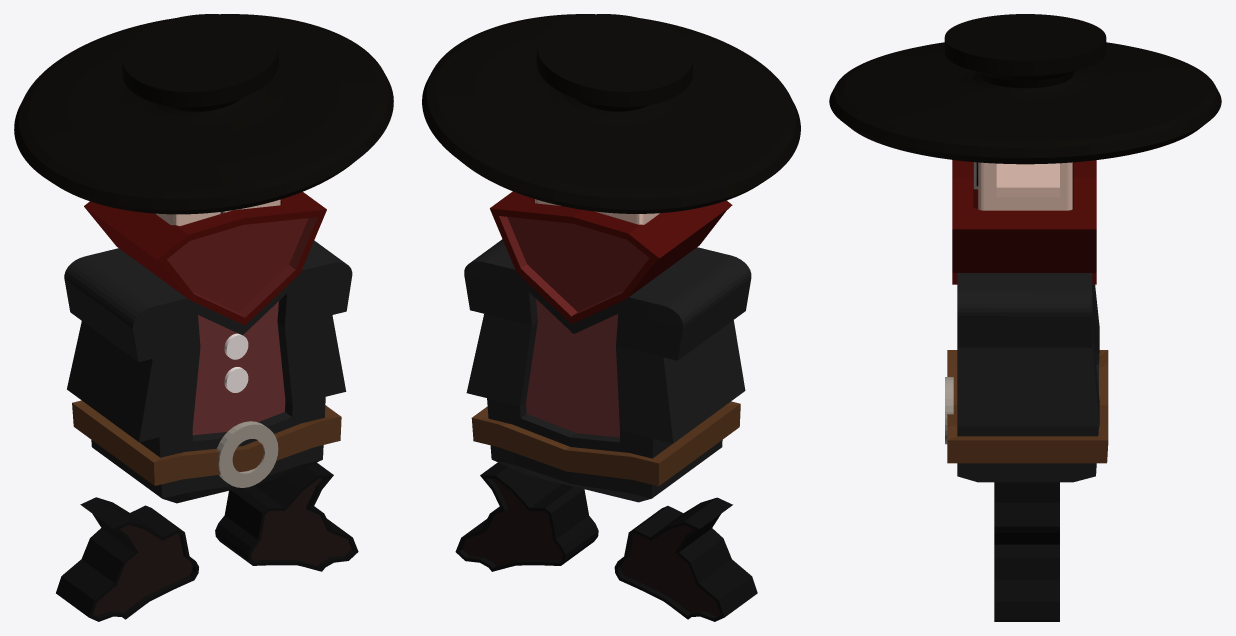
3 views of the same model, side by side, from view 1: azimuth 30°, elevation 25°; view 2: azimuth 150°, elevation 25°; view 3: azimuth 270°, elevation 25° (orthographic).
Visible parts, largest first — view 1: Hat, Jacket, Boots Outline, Scarf Inner, Boots, Scarf, Shirt, Belt, Belt Ring, Jacket Buttons, Head; view 2: Hat, Jacket, Boots Outline, Shirt, Scarf Inner, Boots, Scarf, Belt; view 3: Hat, Jacket, Scarf, Boots Outline, Belt, Head, Ears.
Part boxes in pixels (x1=…): Hat: x1=14, y1=14, x2=393, y2=214; Jacket: x1=64, y1=240, x2=352, y2=503; Boots Outline: x1=56, y1=462, x2=358, y2=621; Scarf Inner: x1=167, y1=217, x2=317, y2=317; Boots: x1=93, y1=478, x2=351, y2=615; Scarf: x1=84, y1=192, x2=326, y2=325; Shirt: x1=192, y1=301, x2=285, y2=435; Belt: x1=72, y1=400, x2=341, y2=485; Belt Ring: x1=216, y1=421, x2=278, y2=487; Jacket Buttons: x1=224, y1=333, x2=248, y2=392; Head: x1=155, y1=199, x2=280, y2=225; Hat: x1=422, y1=14, x2=800, y2=213; Jacket: x1=464, y1=239, x2=751, y2=502; Boots Outline: x1=455, y1=462, x2=757, y2=621; Shirt: x1=526, y1=299, x2=619, y2=437; Scarf Inner: x1=499, y1=216, x2=649, y2=316; Boots: x1=462, y1=479, x2=720, y2=615; Scarf: x1=490, y1=191, x2=732, y2=324; Belt: x1=471, y1=401, x2=740, y2=486; Hat: x1=829, y1=14, x2=1221, y2=164; Jacket: x1=957, y1=273, x2=1099, y2=482; Scarf: x1=952, y1=160, x2=1096, y2=284; Boots Outline: x1=994, y1=482, x2=1059, y2=621; Belt: x1=947, y1=350, x2=1108, y2=463; Head: x1=978, y1=162, x2=1072, y2=210; Ears: x1=996, y1=163, x2=1059, y2=196.
Size of the model in its own units: 85.74 by 137 by 91.45.
